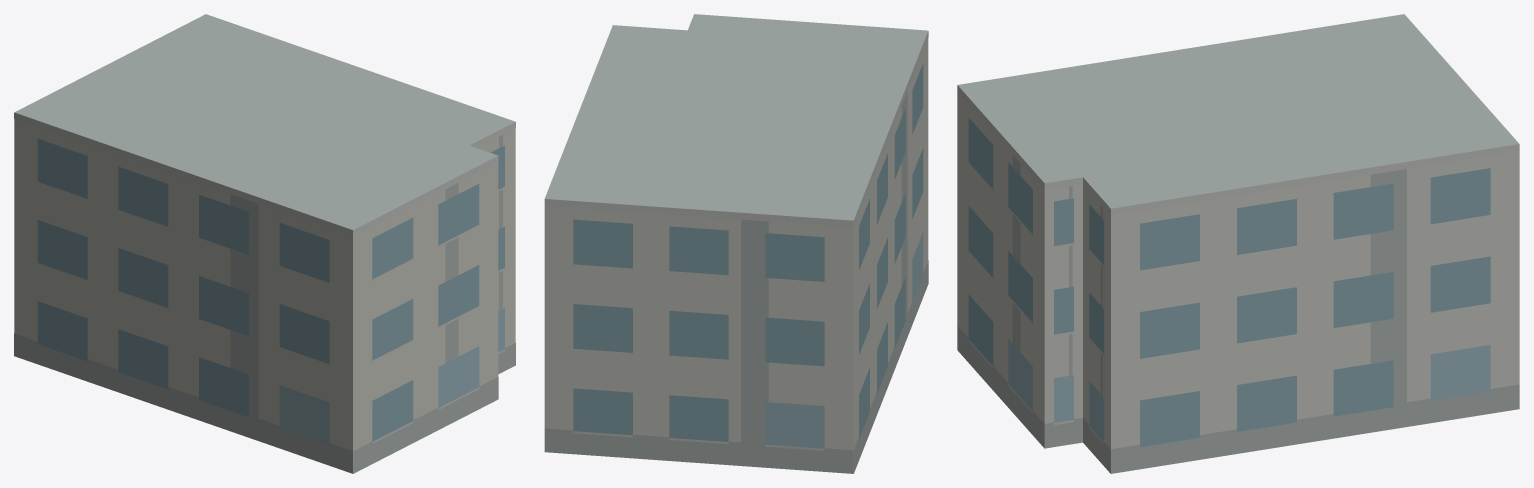
Rendered from residential-12ae552a-509c-44cf-a368-a642fd727bee.glb.
The picture shows the model from 3 angles, left to right: view 1: azimuth 30°, elevation 25°; view 2: azimuth 150°, elevation 25°; view 3: azimuth 270°, elevation 25°; orthographic projection. The views are drawn at different scales.
Parts seen in each view (by area): view 1: residential-12ae552a-509c-44cf-a368-a642fd727bee.tmp; view 2: residential-12ae552a-509c-44cf-a368-a642fd727bee.tmp; view 3: residential-12ae552a-509c-44cf-a368-a642fd727bee.tmp.
Part boxes in pixels (x1=…): residential-12ae552a-509c-44cf-a368-a642fd727bee.tmp: x1=14, y1=14, x2=515, y2=473; residential-12ae552a-509c-44cf-a368-a642fd727bee.tmp: x1=544, y1=14, x2=928, y2=473; residential-12ae552a-509c-44cf-a368-a642fd727bee.tmp: x1=957, y1=14, x2=1519, y2=473.
Size of the model in its own units: 14.18 by 9 by 17.3.
